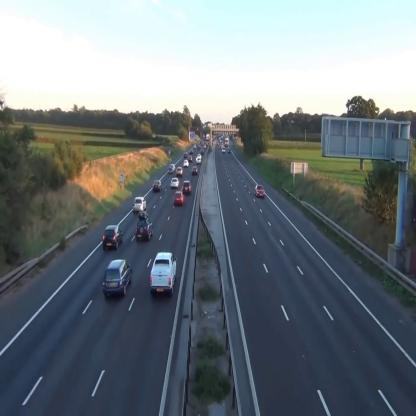car: (103, 258, 132, 298), (150, 251, 176, 295), (102, 225, 123, 249), (135, 218, 153, 240), (133, 198, 146, 213), (174, 192, 185, 206), (254, 185, 265, 199), (182, 180, 192, 193), (152, 179, 162, 190), (171, 178, 179, 188), (170, 162, 176, 171), (177, 167, 182, 175), (192, 166, 197, 174), (184, 159, 188, 167), (188, 156, 192, 161)
